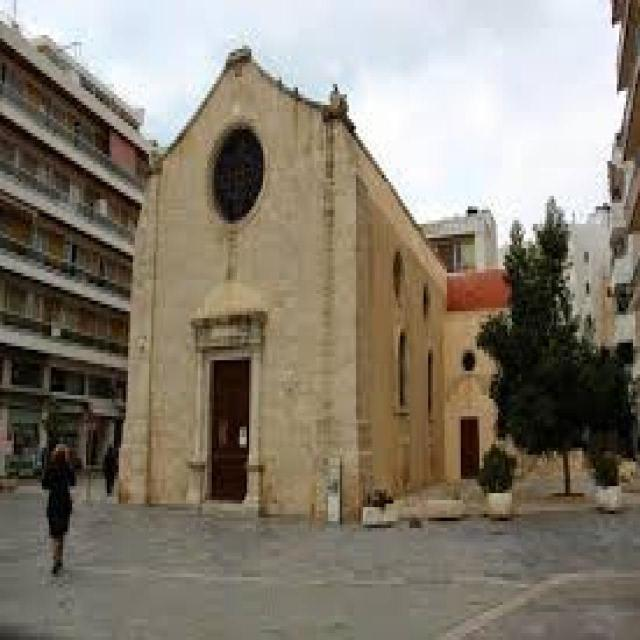Agia Aikaterini: (122, 47, 510, 504)
